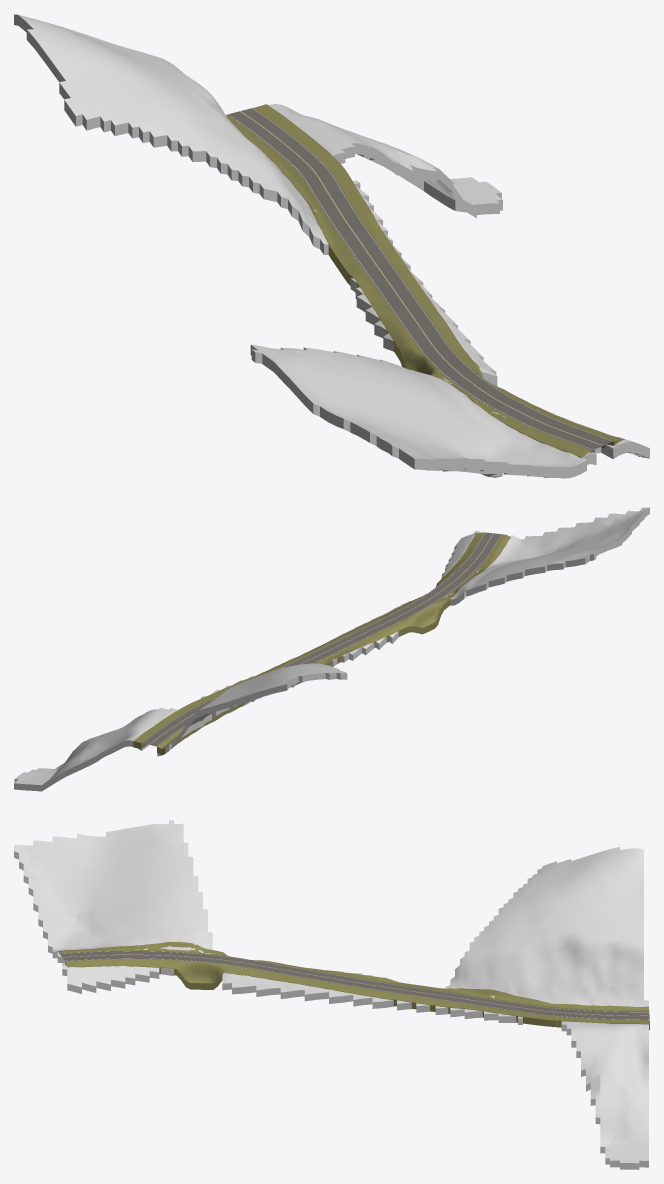
The model's file is conz_29.glb.
3 views of the same model, one above another, from view 1: azimuth 30°, elevation 25°; view 2: azimuth 150°, elevation 25°; view 3: azimuth 270°, elevation 25° (orthographic). The views are drawn at different scales.
Parts seen in each view (by area): view 1: terrain29, road29, verge29R, verge29L, paint_white29, paint_yellow29; view 2: terrain29, road29, verge29R, verge29L; view 3: terrain29, verge29L, road29, verge29R.
Part boxes in pixels (left/top/right/bottom): terrain29: left=14, top=14, right=649, bottom=478; road29: left=227, top=108, right=613, bottom=450; verge29R: left=226, top=115, right=592, bottom=457; verge29L: left=253, top=104, right=624, bottom=448; paint_white29: left=228, top=108, right=612, bottom=449; paint_yellow29: left=240, top=111, right=603, bottom=445; terrain29: left=14, top=507, right=649, bottom=791; road29: left=142, top=532, right=501, bottom=746; verge29R: left=157, top=534, right=510, bottom=754; verge29L: left=133, top=532, right=484, bottom=749; terrain29: left=14, top=820, right=648, bottom=1169; verge29L: left=65, top=959, right=649, bottom=1030; road29: left=60, top=951, right=649, bottom=1019; verge29R: left=57, top=941, right=649, bottom=1011.
Bounding box in the file's own units: 180 × 82.13 × 262.
